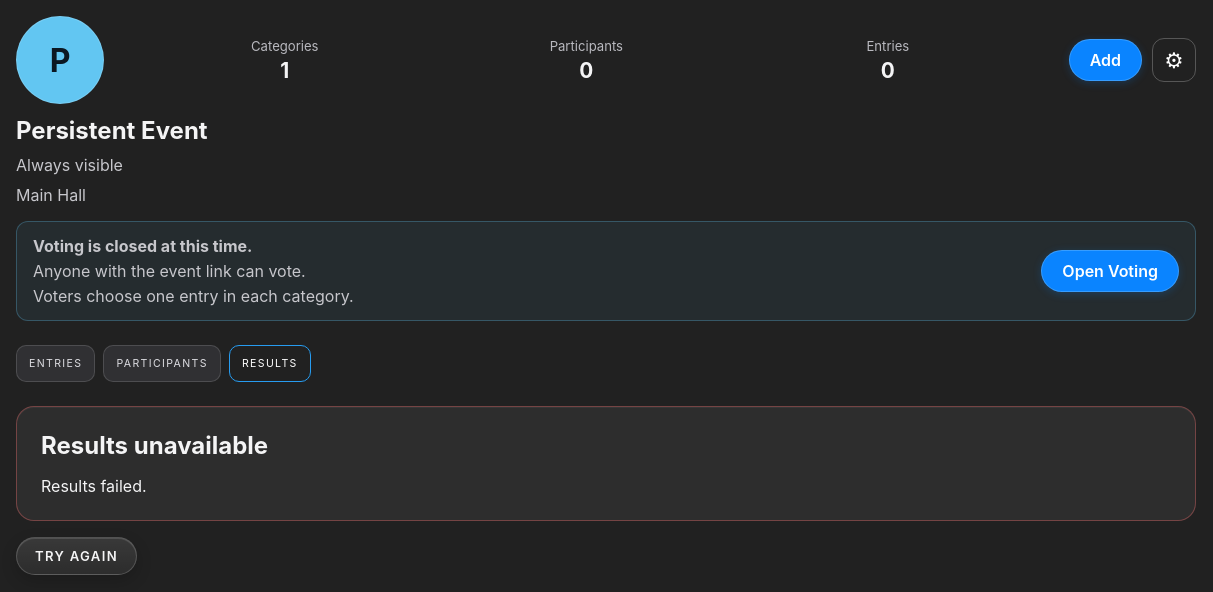
persistent event workspace routing › contains results failure, permits navigation, and retries on return
Expected: the message shows "Results failed.", [41,476,147,496]
Expected: the heading "Persistent Event" is shown, [16,116,208,145]
Click the tab "Entries" at (56, 364), box [16,345,95,382]
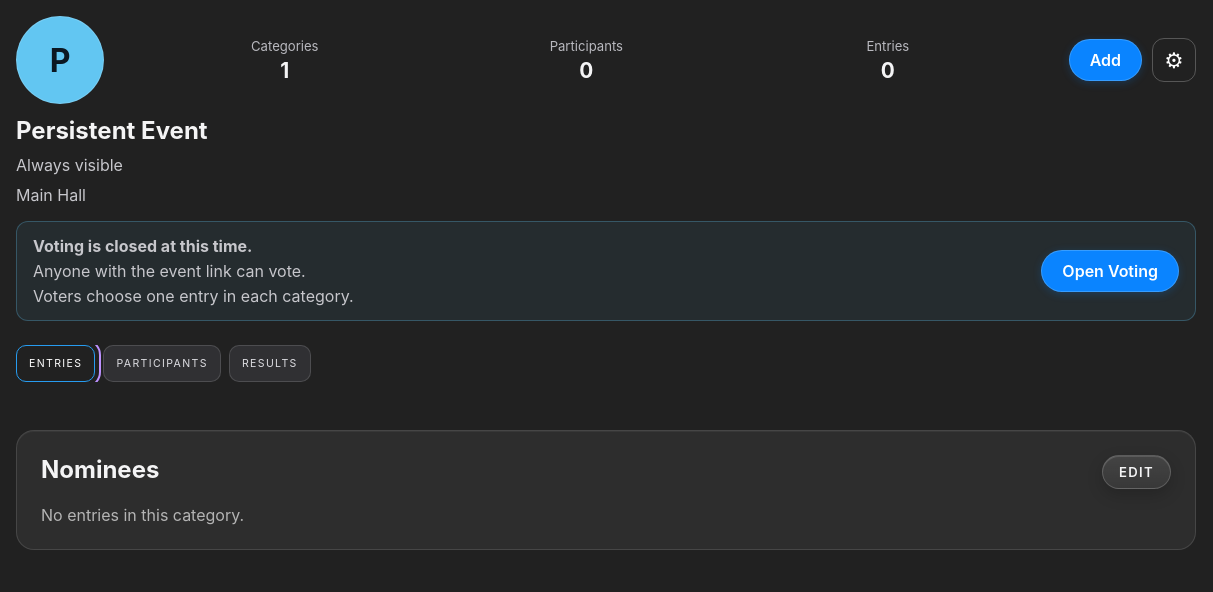
Click the tab "Results" at (270, 364), box [229,345,311,382]
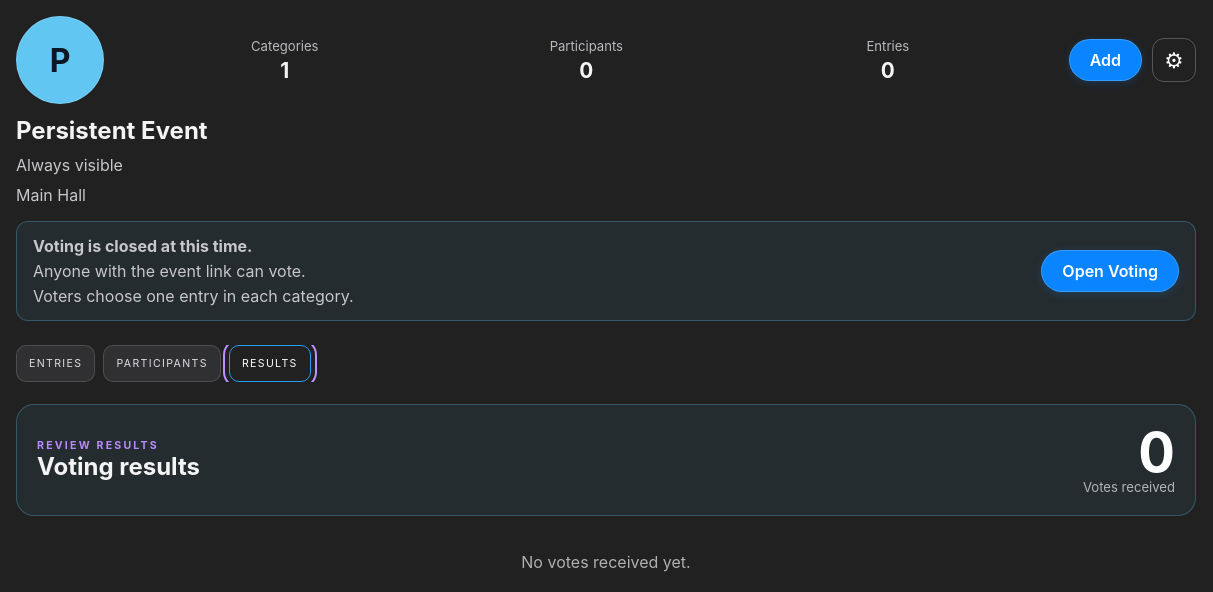
Now the text "No votes received yet." is shown, box [521,552,691,572]
